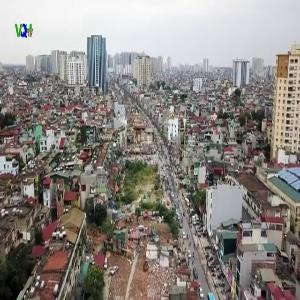drone: (156, 76, 197, 117)
